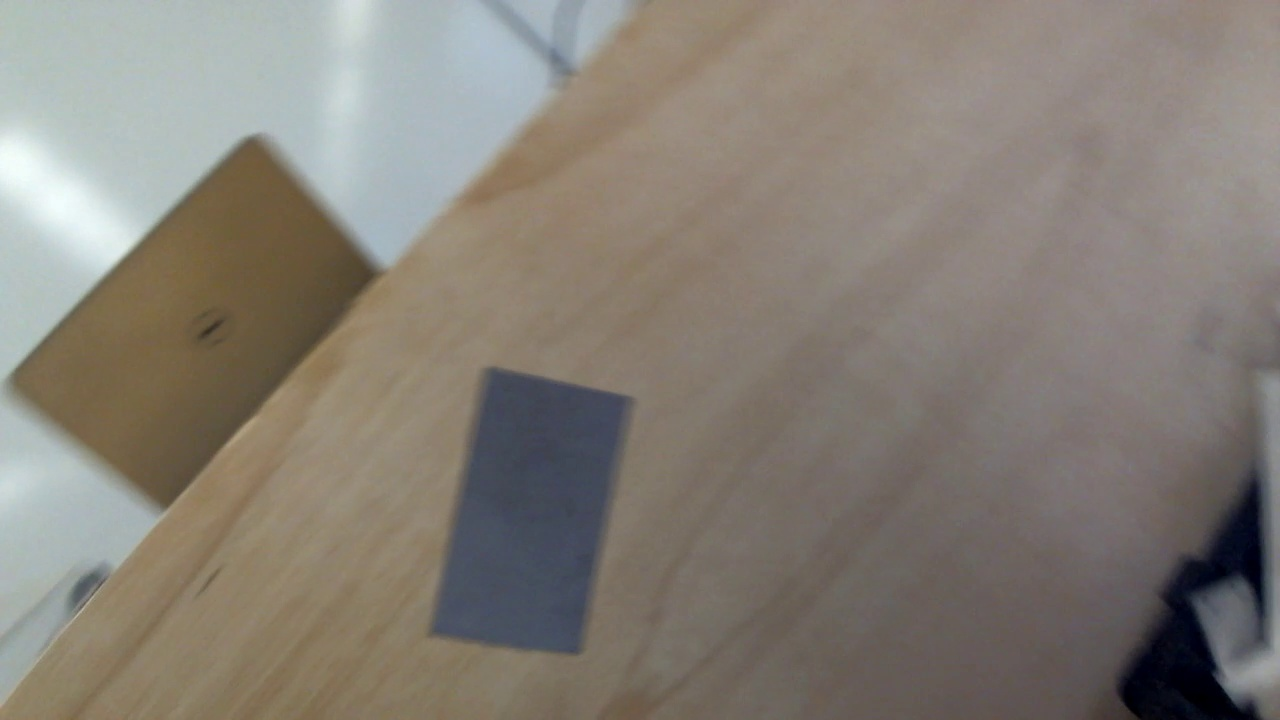Tape: (427, 367, 636, 656)
